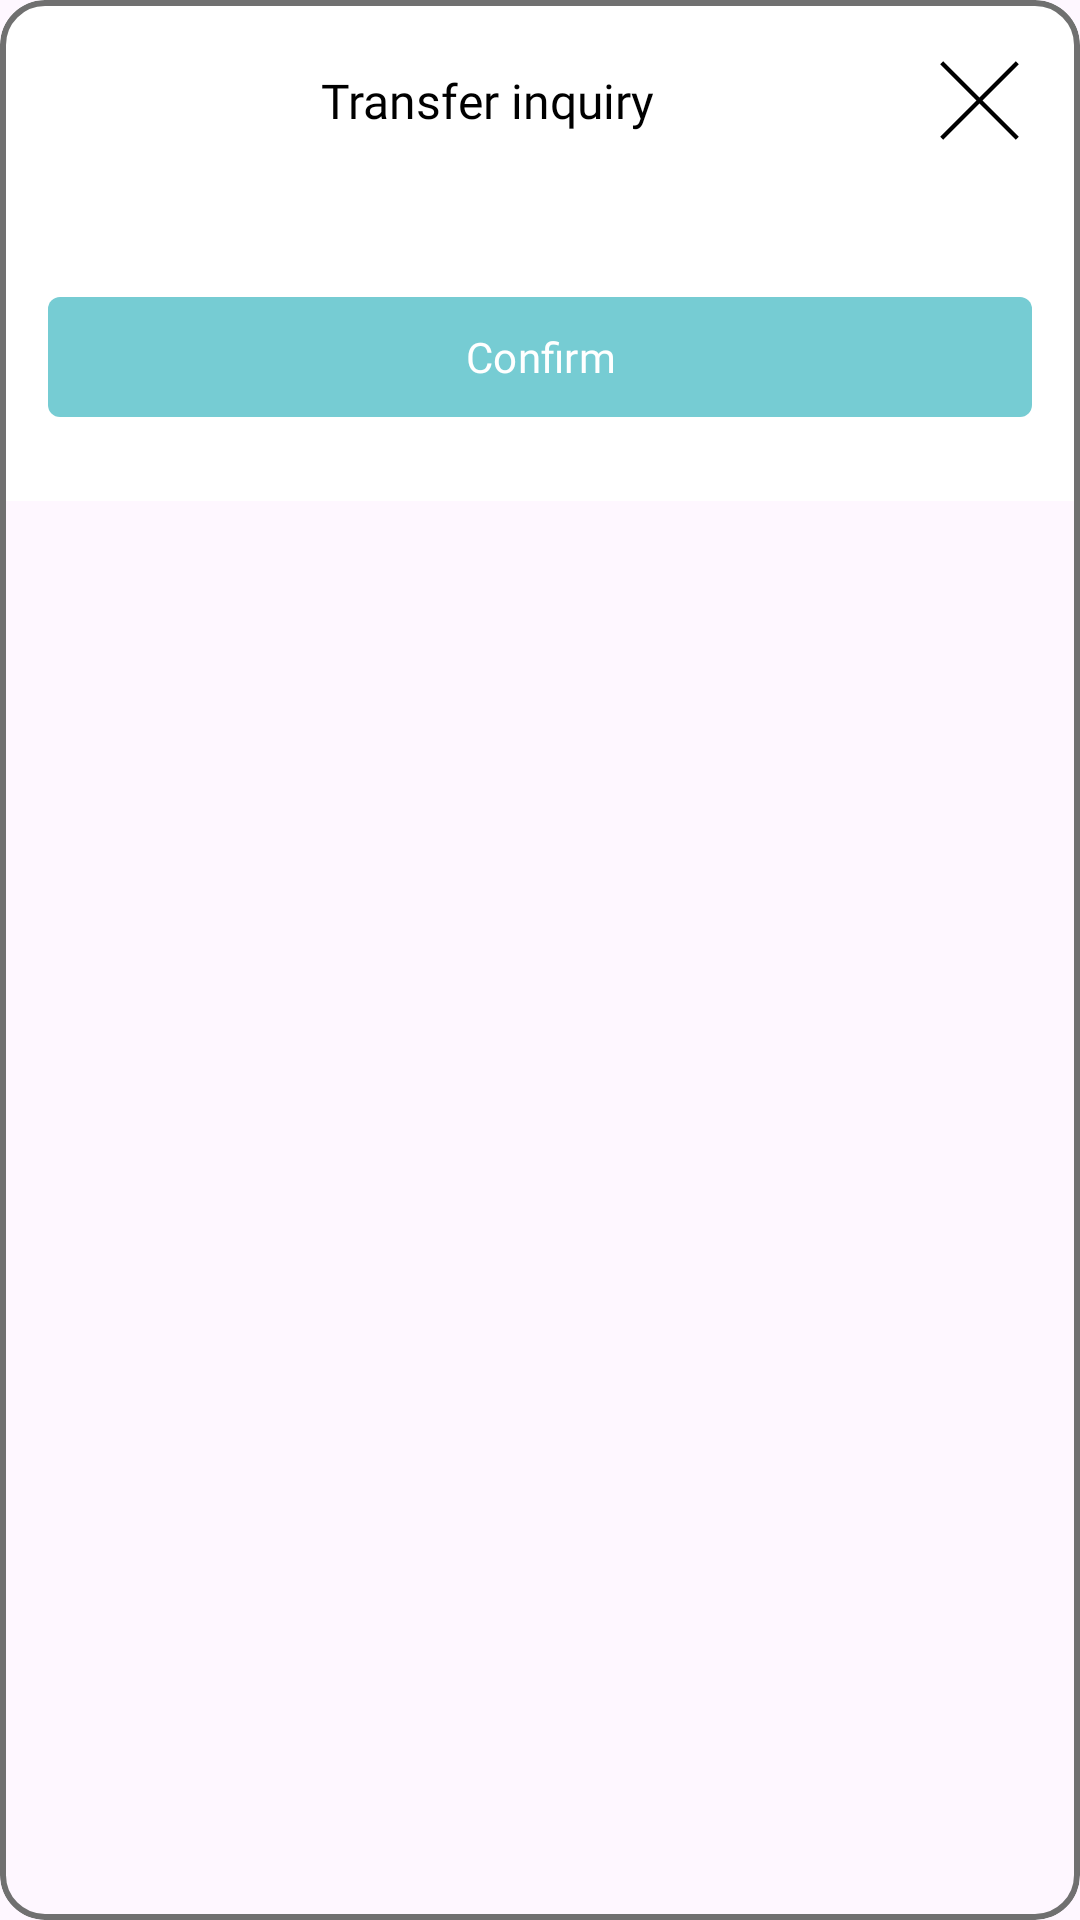

Locate icon controls on the screen. Image size 1080×1920, boxes as (x1, y1, x2, y2).
close: (940, 61, 1019, 140)
